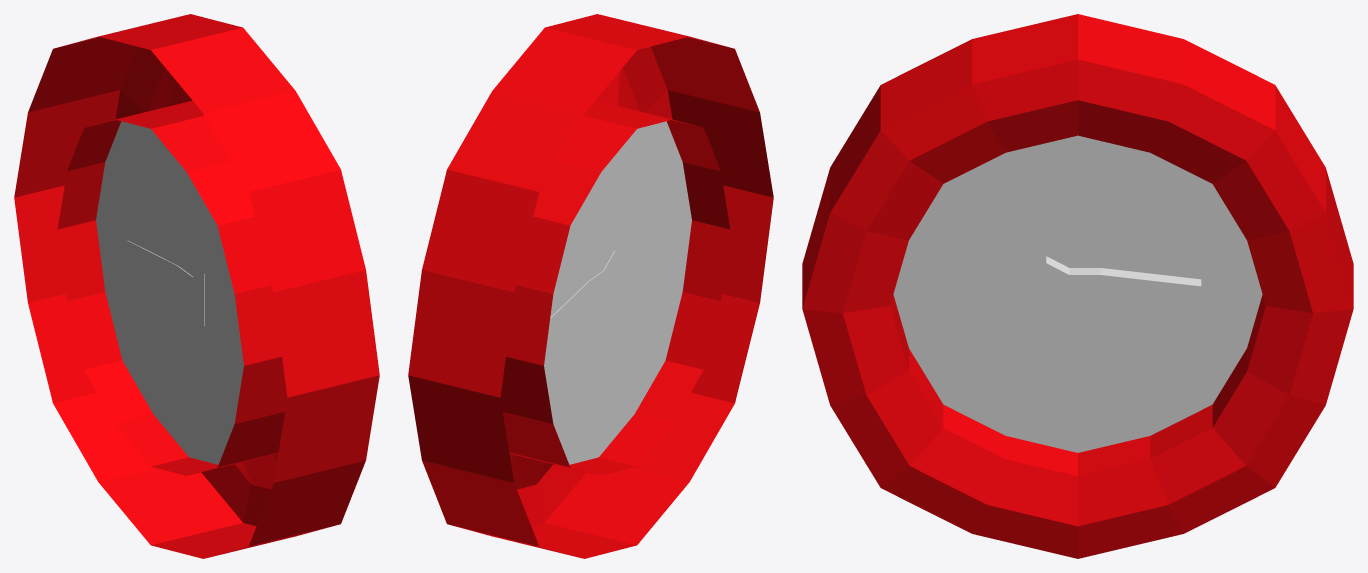
The model's file is gauge.fbx.
The picture shows the model from 3 angles, left to right: view 1: azimuth 30°, elevation 25°; view 2: azimuth 150°, elevation 25°; view 3: azimuth 270°, elevation 25°; orthographic projection.
Parts seen in each view (by area): view 1: gauge.case, gauge.pointer; view 2: gauge.case, gauge.pointer; view 3: gauge.case, gauge.pointer.
Part boxes in pixels (<box>): gauge.case: <box>14,14,379,558</box>; gauge.pointer: <box>127,240,204,326</box>; gauge.case: <box>408,14,773,558</box>; gauge.pointer: <box>548,250,615,331</box>; gauge.case: <box>802,14,1353,558</box>; gauge.pointer: <box>1046,256,1201,315</box>.
Size of the model in its own units: 6.23 by 29.32 by 29.32.
